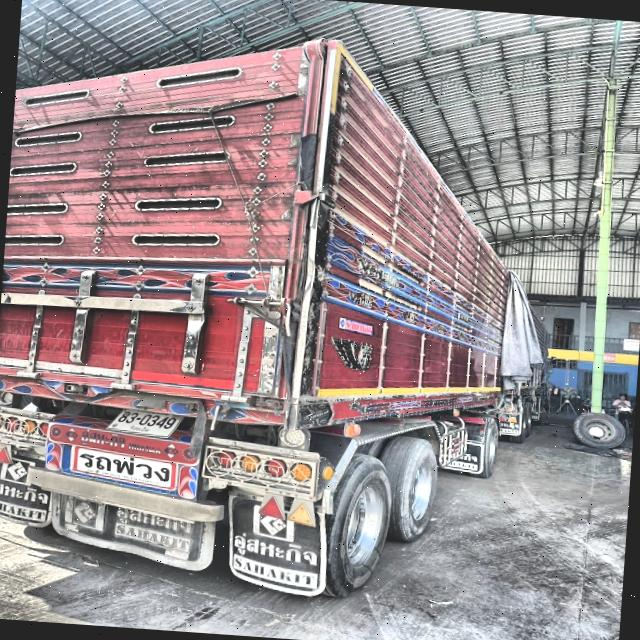trailer: (0, 11, 569, 611)
